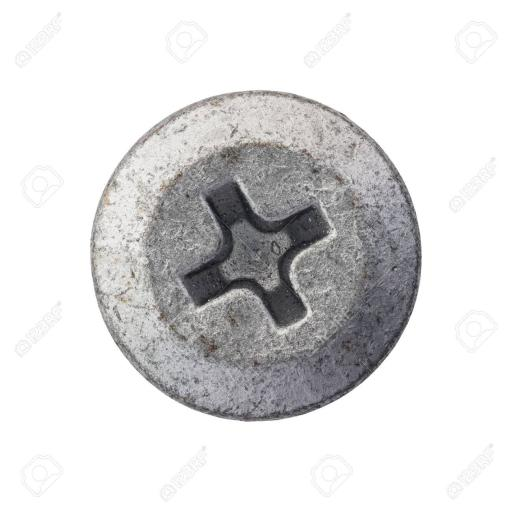Phillips: (94, 93, 414, 419)
